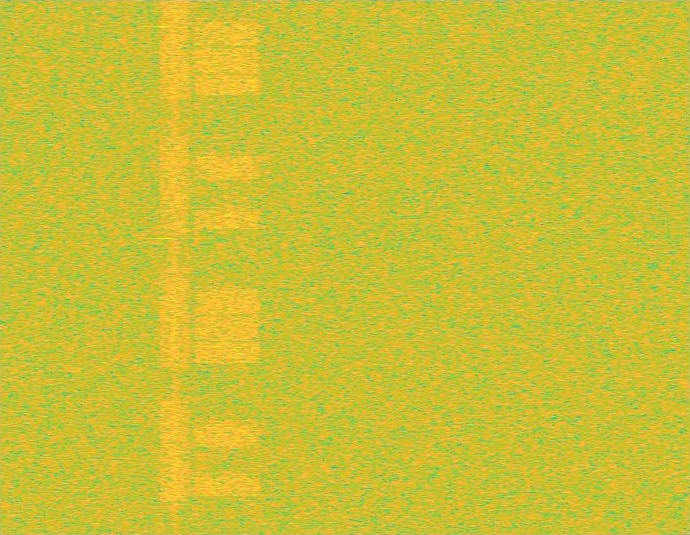5G: (158, 0, 192, 534)
DSSS: (171, 0, 179, 534)
LTE: (192, 0, 261, 534)
Radar: (157, 0, 171, 534)
